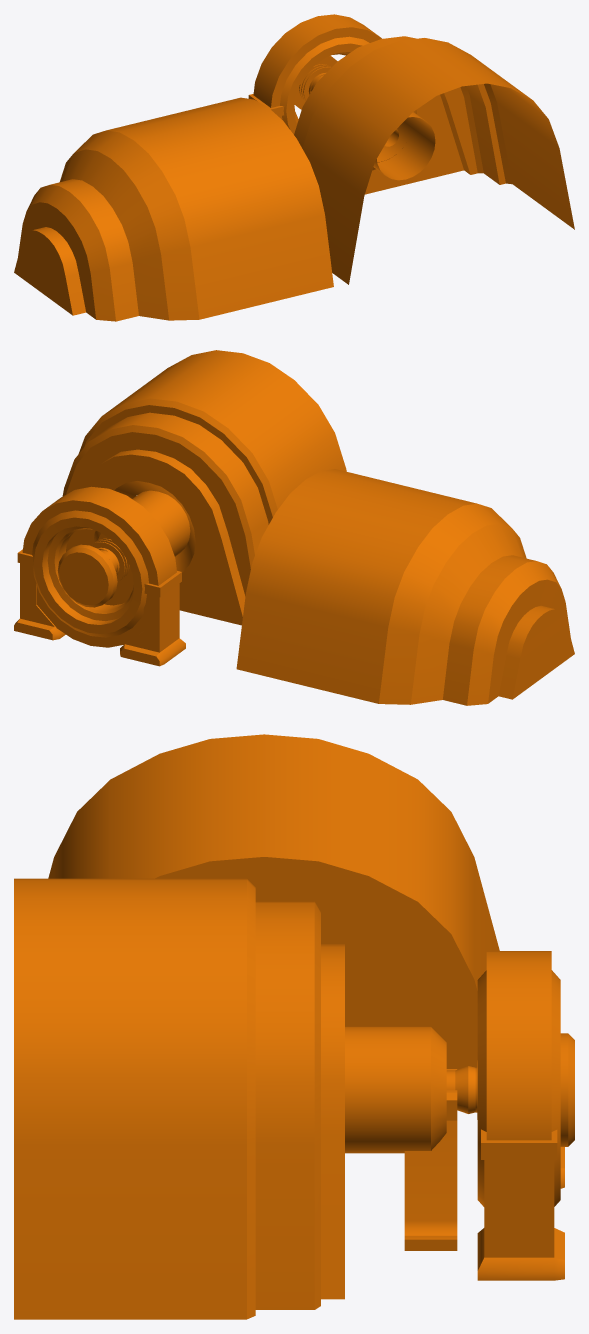
Rendered from Parte interna.fbx.
3 renders of one model, top to bottom at view 1: azimuth 30°, elevation 25°; view 2: azimuth 150°, elevation 25°; view 3: azimuth 270°, elevation 25°, orthographic. The views are drawn at different scales.
Visible parts, largest first — view 1: Parte_interna1; view 2: Parte_interna1; view 3: Parte_interna1.
Part boxes in pixels (left/top/right/bottom): Parte_interna1: left=14, top=14, right=574, bottom=321; Parte_interna1: left=14, top=350, right=574, bottom=705; Parte_interna1: left=14, top=734, right=574, bottom=1319.
Size of the model in its own units: 48.84 by 17.19 by 27.4.
